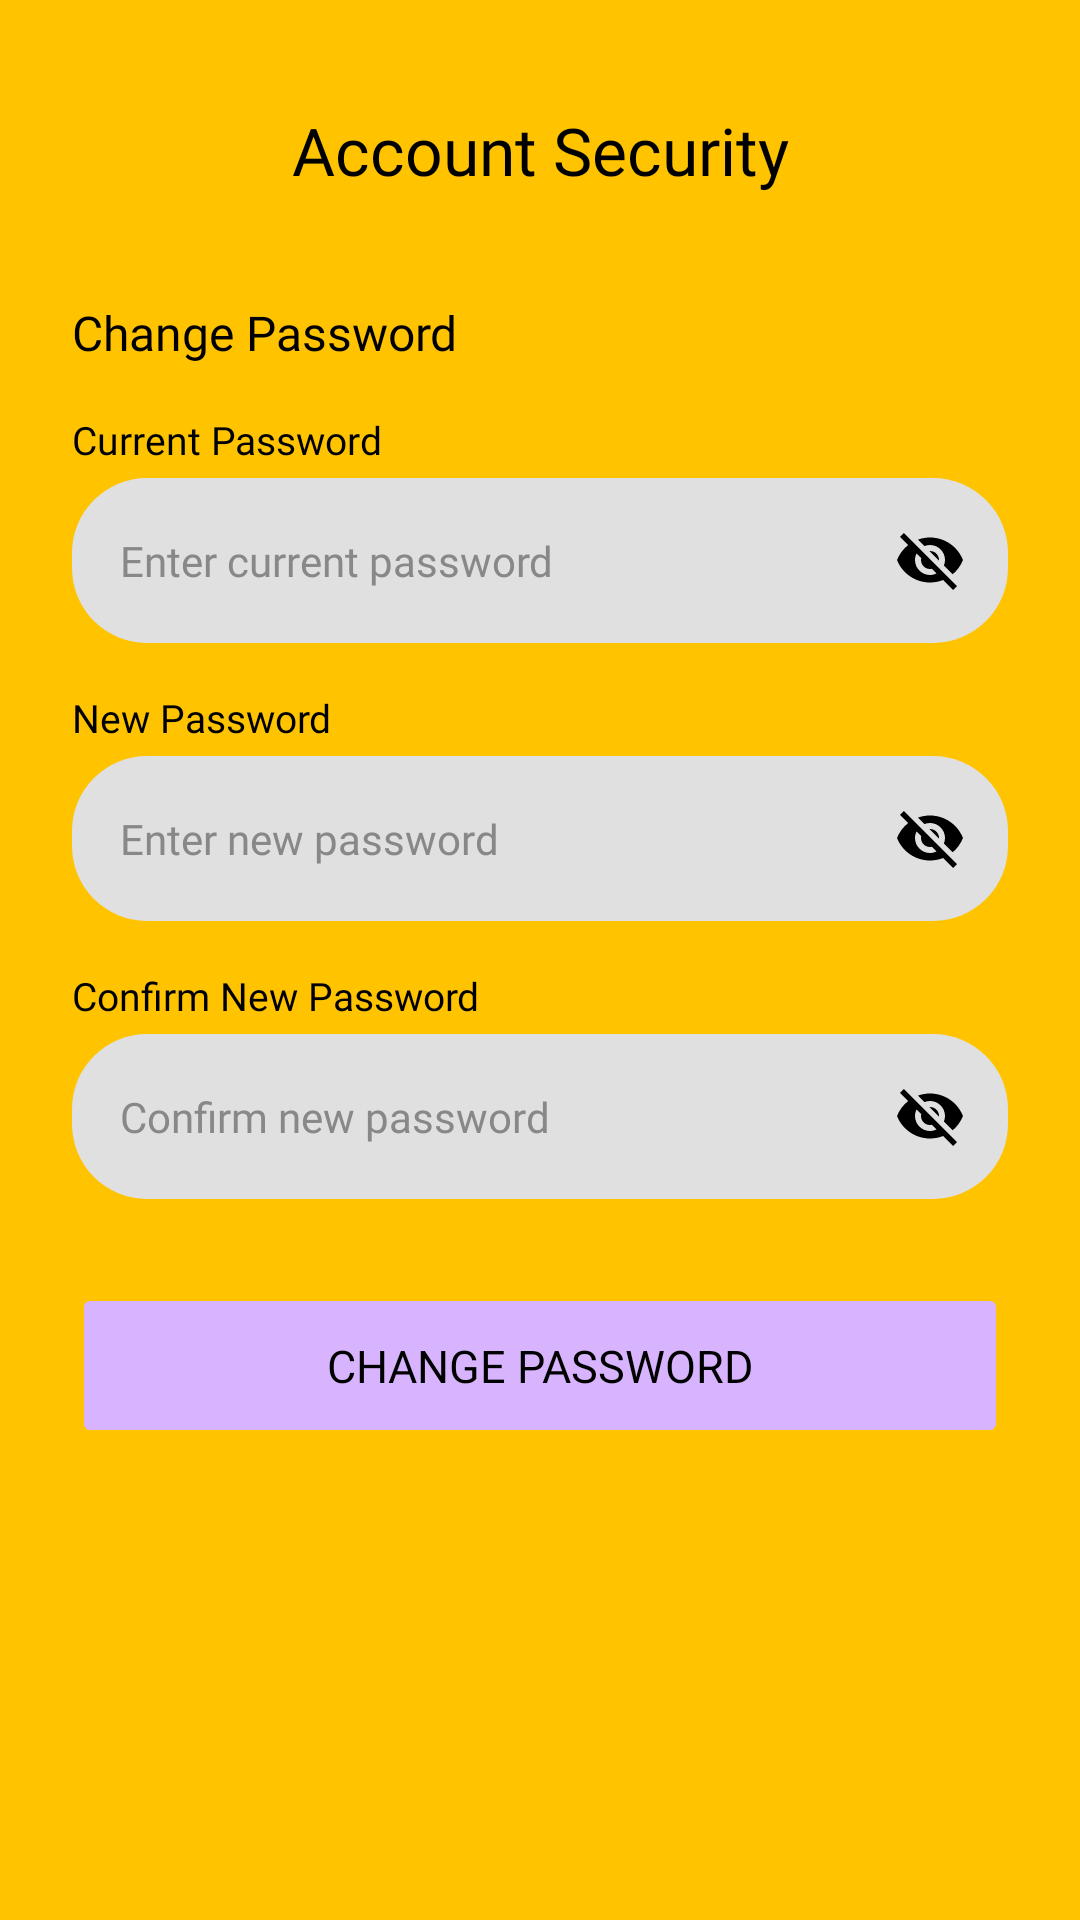

Icon click points for this 1080 × 1920 phone screenshot, format [x,y]:
Toggle visibility: [930,561], [930,839], [930,1117]
